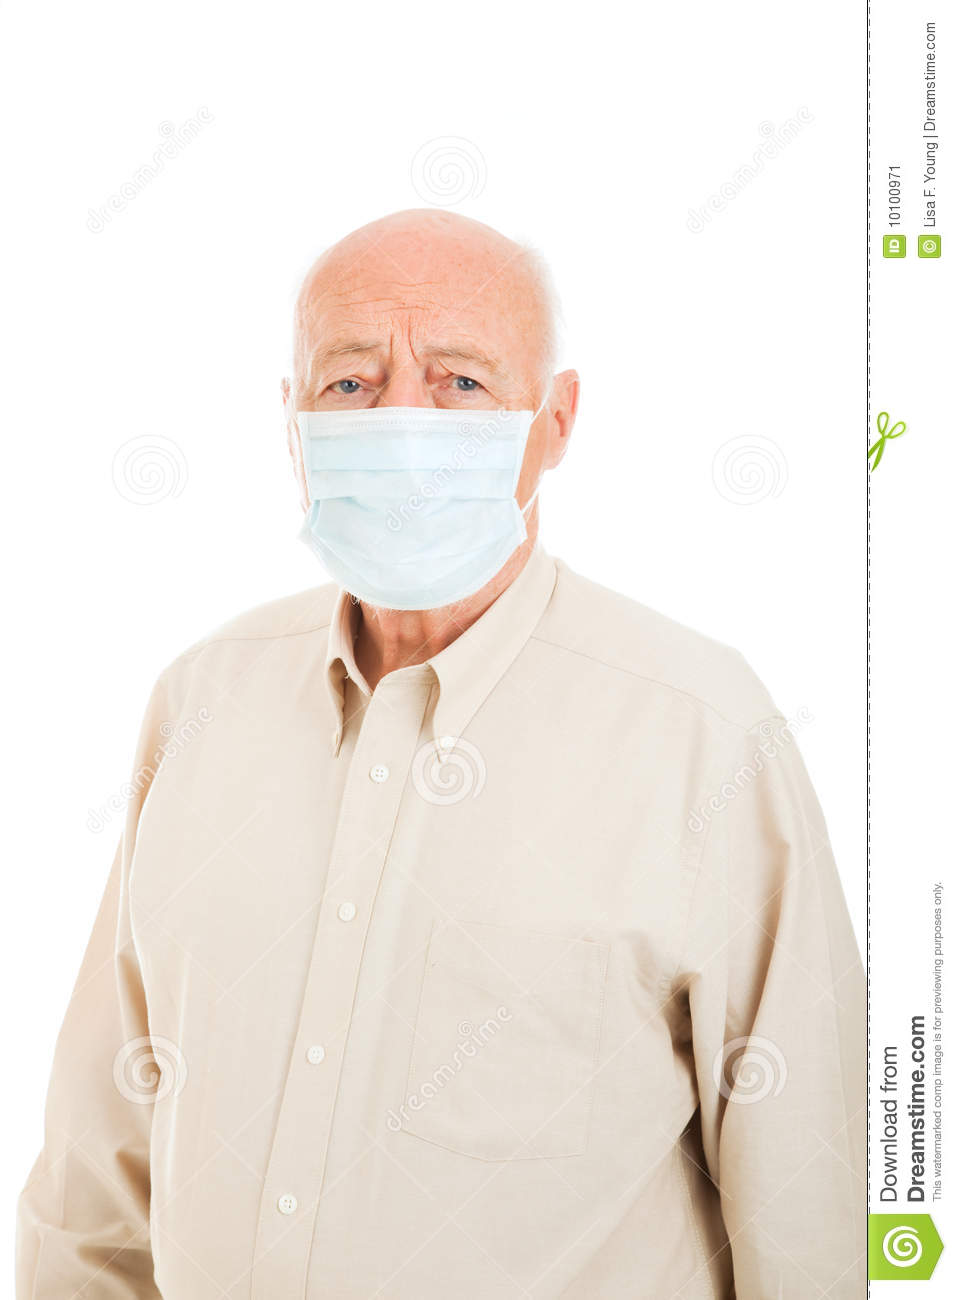mask: (291, 404, 530, 611)
